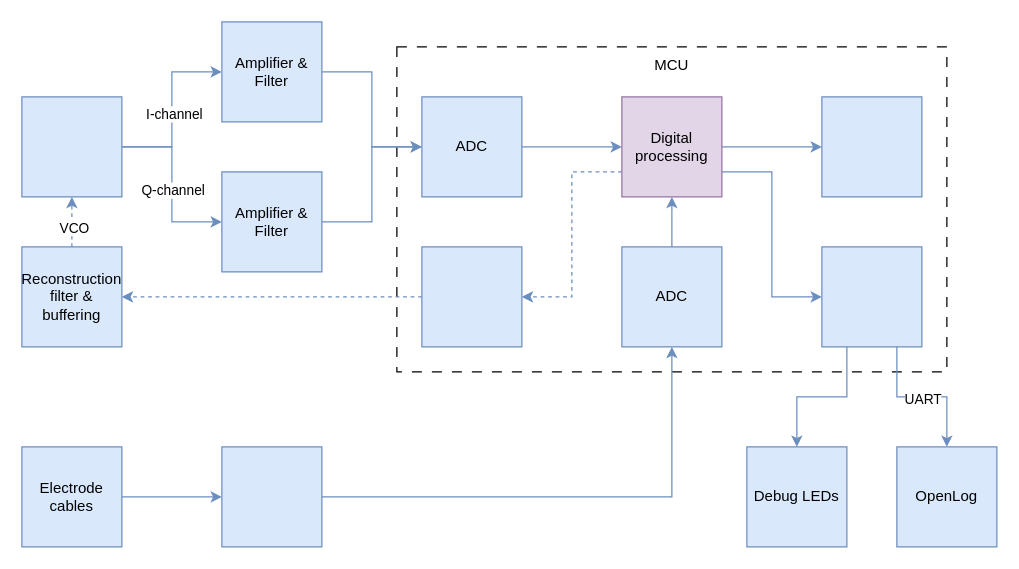
This 1019x569 diagram has some shape labels left out. The centre of each missing label's shape, as x and y in pixels:
"AD832 (ECG)" goes at [271,496].
"DAC" goes at [471,296].
"GPIO" goes at [871,296].
"K-LC5 radar" goes at [71,146].
"LCD display" goes at [871,146].
